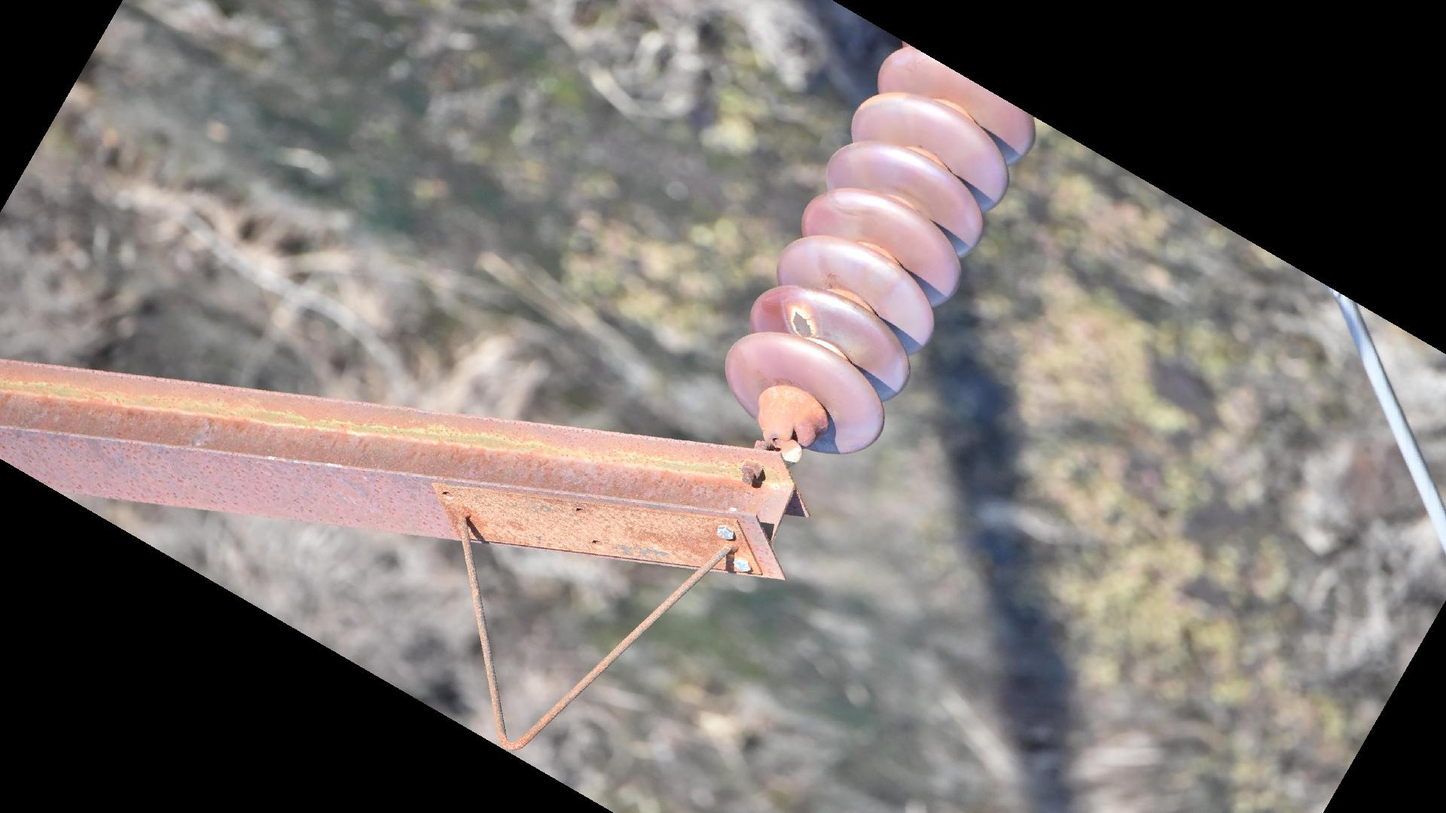insulator: (720, 38, 1044, 464)
insulator_flashover: (785, 302, 819, 342)
